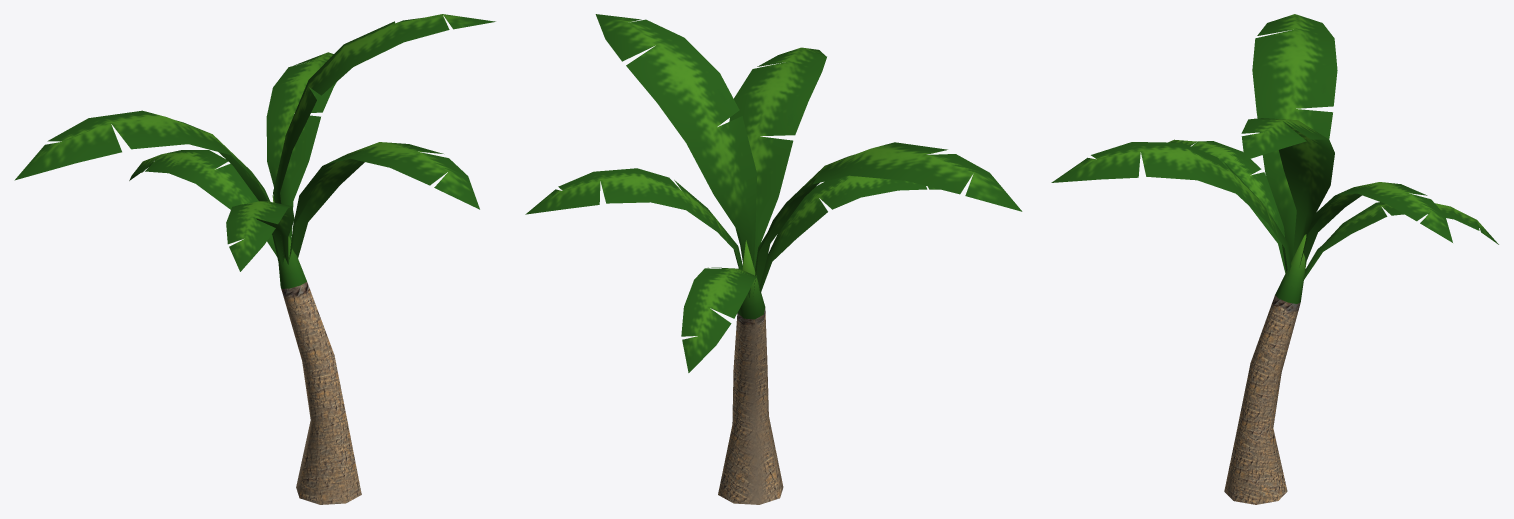
Rendered from TROPICAL_TREE.fbx.
The picture shows the model from 3 angles, left to right: view 1: azimuth 30°, elevation 25°; view 2: azimuth 150°, elevation 25°; view 3: azimuth 270°, elevation 25°; orthographic projection. The views are drawn at different scales.
Visible parts, largest first — view 1: Cylinder; view 2: Cylinder; view 3: Cylinder.
Part boxes in pixels (x1,y1,x2,y2): Cylinder: (14, 14, 495, 504); Cylinder: (525, 14, 1022, 504); Cylinder: (1051, 14, 1498, 504).
Size of the model in its own units: 1656 by 1543 by 1519.
Materials: 1 (1 with a texture image).
